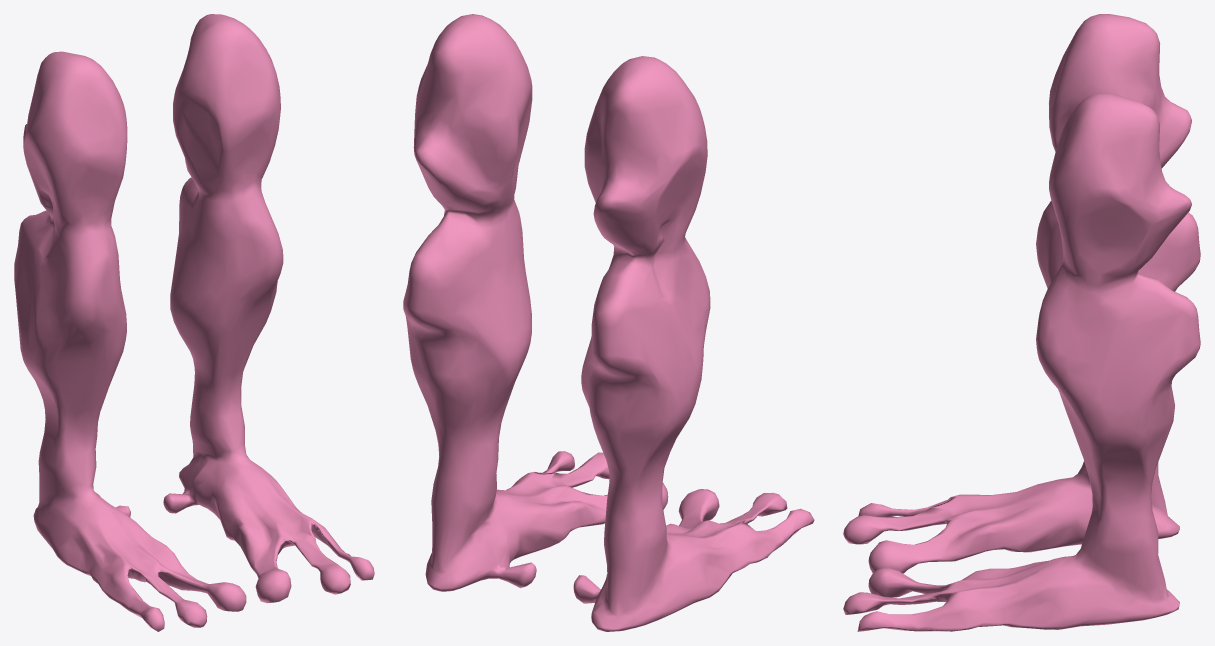
Rendered from FrogLegs_Decimate.fbx.
3 renders of one model, left to right at view 1: azimuth 30°, elevation 25°; view 2: azimuth 150°, elevation 25°; view 3: azimuth 270°, elevation 25°, orthographic. The views are drawn at different scales.
Visible parts, largest first — view 1: PM3D_FrogLegs; view 2: PM3D_FrogLegs; view 3: PM3D_FrogLegs.
Boxes of the visible parts, x1,y1,x2,y2 form: PM3D_FrogLegs: (14,14,374,631); PM3D_FrogLegs: (403,14,814,631); PM3D_FrogLegs: (843,14,1200,631).
Bounding box in the file's own units: 0.4529 × 0.8824 × 0.5412.
